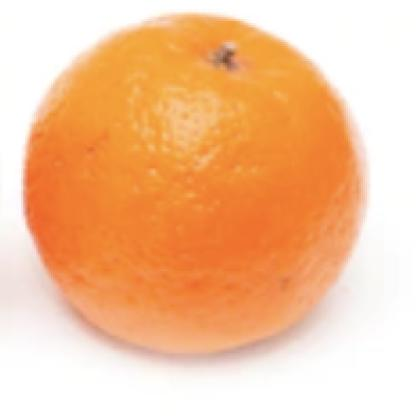fresh: (22, 13, 367, 354)
